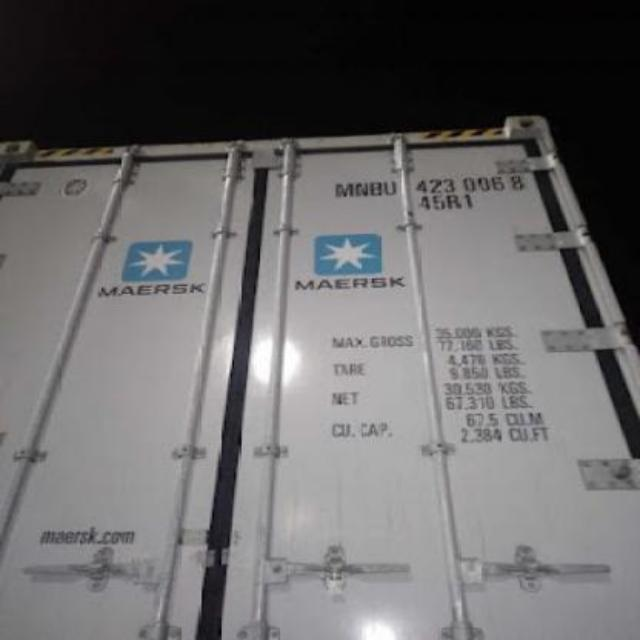0: (462, 178, 478, 192), (478, 178, 490, 192)
2: (431, 180, 444, 194)
3: (442, 180, 458, 194)
4: (416, 180, 428, 192)
6: (491, 176, 504, 192)
8: (512, 177, 524, 190)
B: (372, 180, 382, 196)
M: (334, 182, 354, 198)
N: (356, 182, 369, 196)
U: (384, 180, 396, 196)
